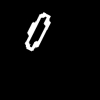chain: (25, 13, 49, 50)
